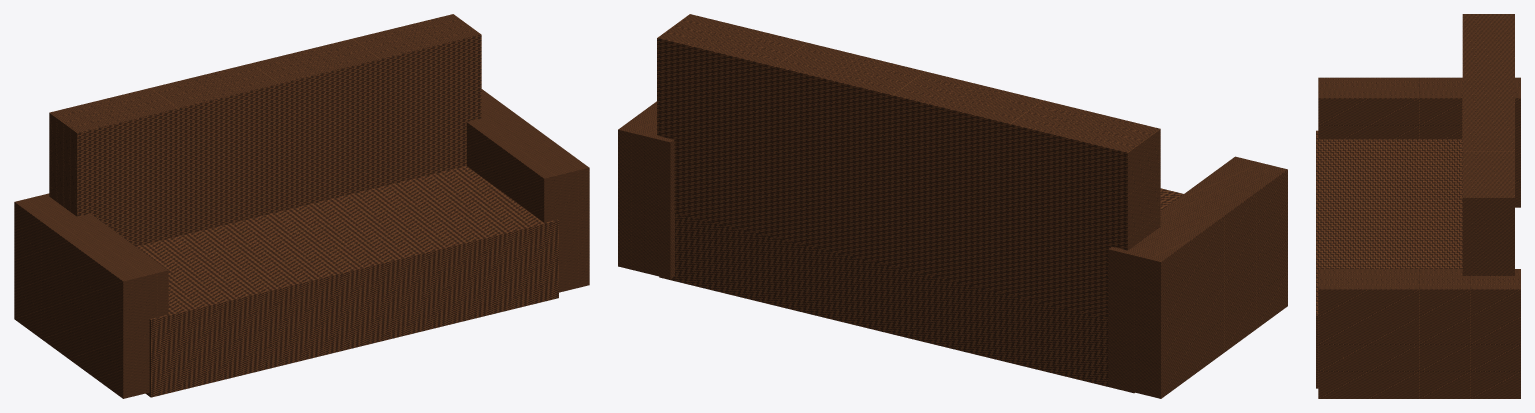
File: couchmodel.fbx
3 views of the same model, side by side, from view 1: azimuth 30°, elevation 25°; view 2: azimuth 150°, elevation 25°; view 3: azimuth 270°, elevation 25° (orthographic). The views are drawn at different scales.
Visible parts, largest first — view 1: topcouch1; view 2: topcouch1; view 3: topcouch1.
Boxes of the visible parts, bbox=[...] form: topcouch1: bbox=[14, 14, 589, 398]; topcouch1: bbox=[618, 14, 1287, 398]; topcouch1: bbox=[1316, 14, 1520, 398].
Size of the model in its own units: 8.16 by 3.44 by 3.34.
